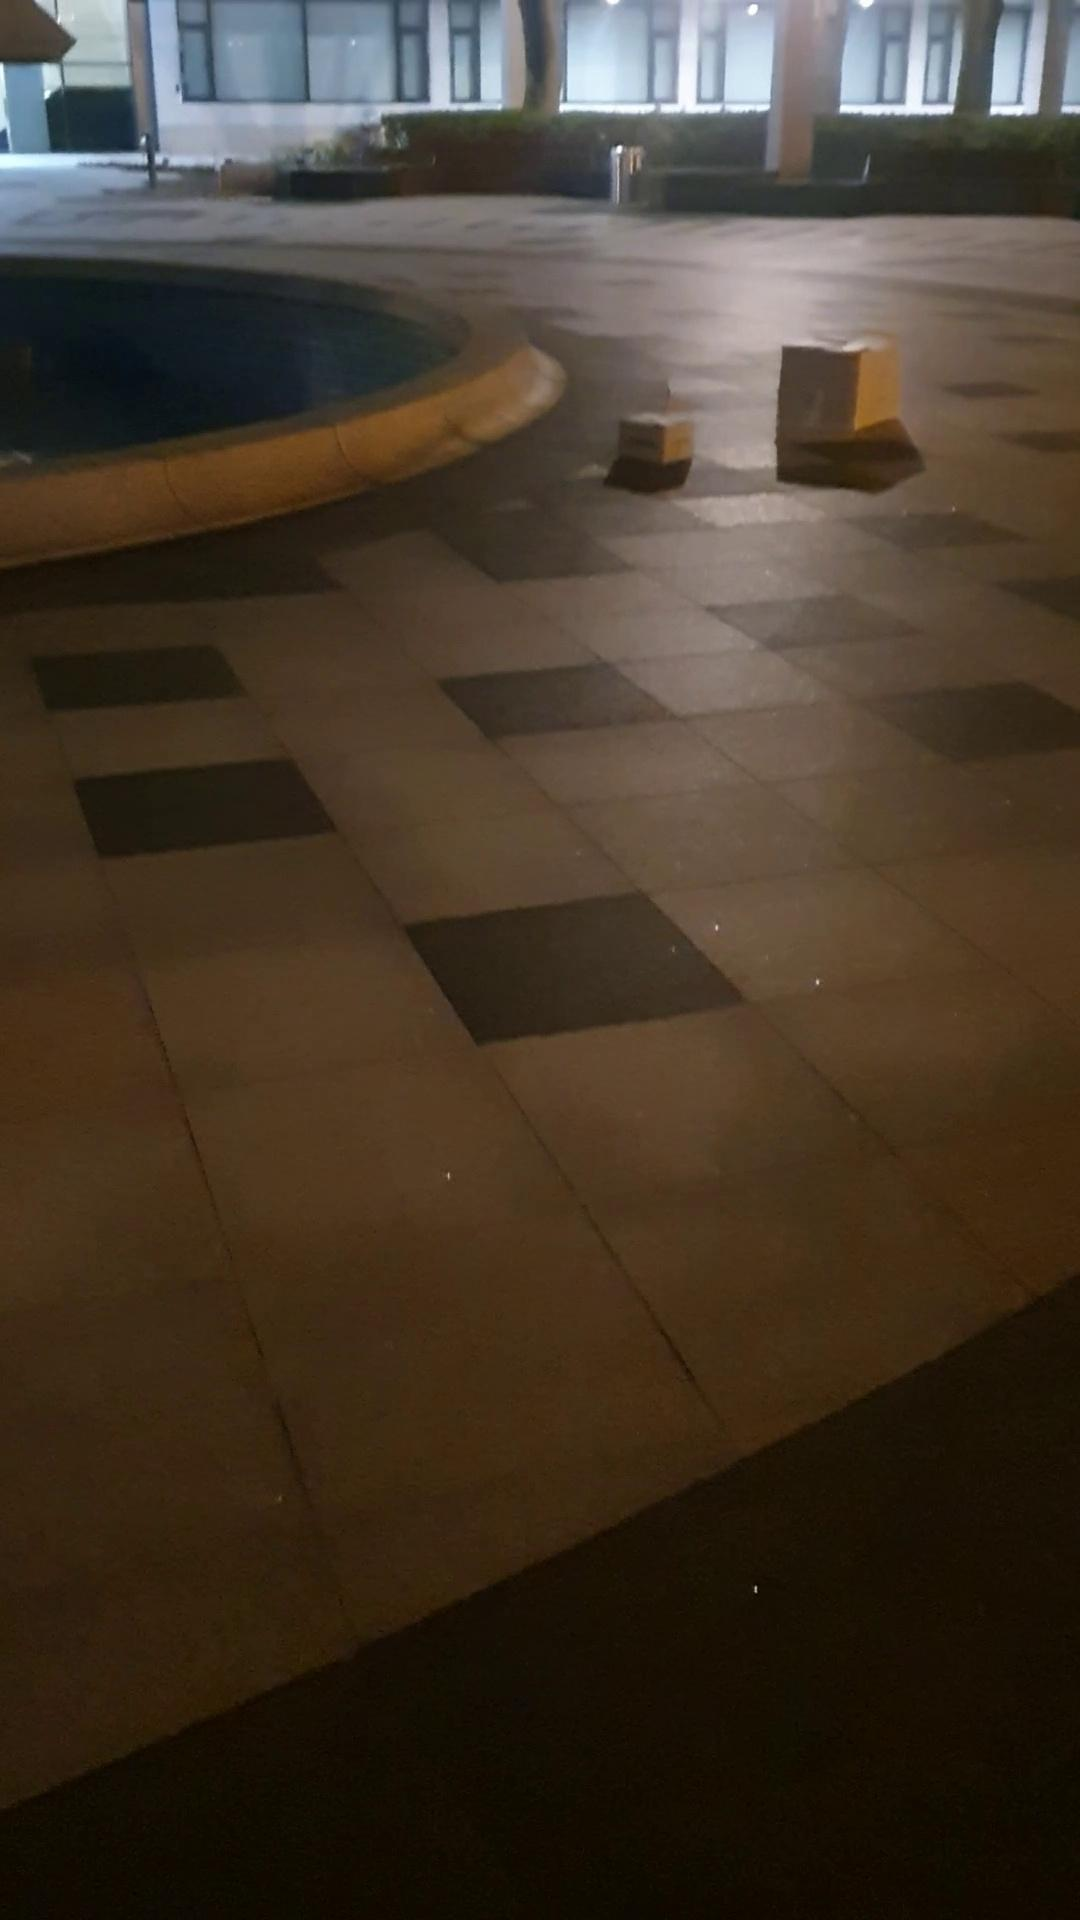Box: (773, 334, 914, 448), (613, 405, 687, 483)
